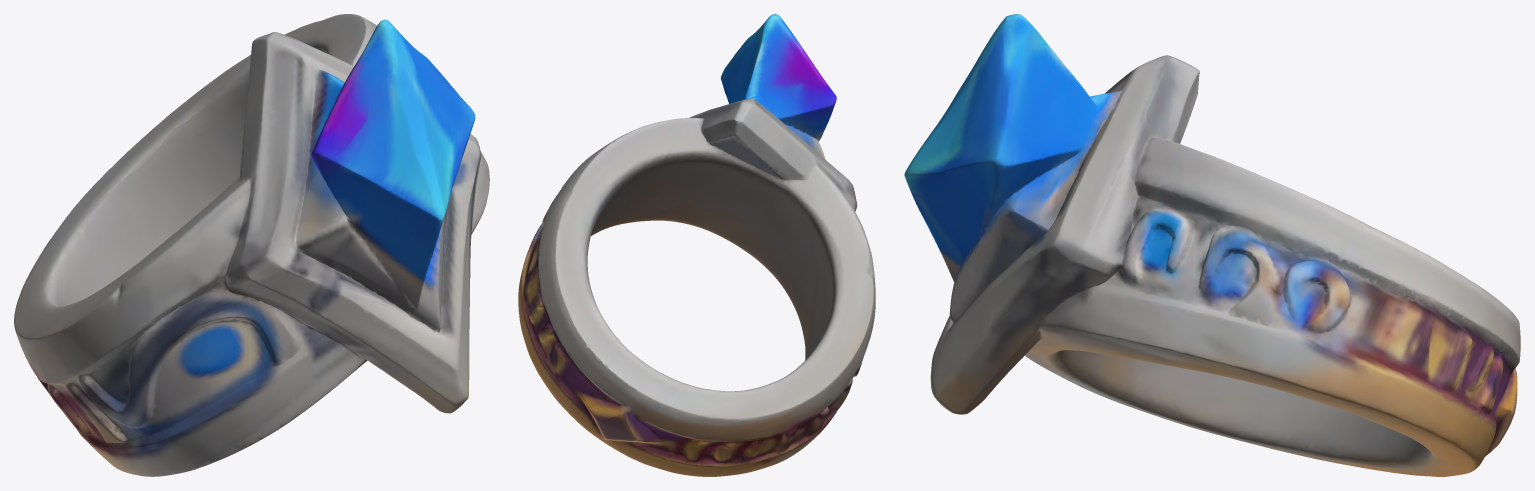
File: anel-2.glb
The picture shows the model from 3 angles, left to right: view 1: azimuth 30°, elevation 25°; view 2: azimuth 150°, elevation 25°; view 3: azimuth 270°, elevation 25°; orthographic projection. The views are drawn at different scales.
Visible parts, largest first — view 1: tripo_node_ebc4f105-10a8-4b16-a40b-d5813a3c5798.001; view 2: tripo_node_ebc4f105-10a8-4b16-a40b-d5813a3c5798.001; view 3: tripo_node_ebc4f105-10a8-4b16-a40b-d5813a3c5798.001.
Boxes of the visible parts, <box> form: tripo_node_ebc4f105-10a8-4b16-a40b-d5813a3c5798.001: <box>14,14,489,476</box>; tripo_node_ebc4f105-10a8-4b16-a40b-d5813a3c5798.001: <box>518,14,875,476</box>; tripo_node_ebc4f105-10a8-4b16-a40b-d5813a3c5798.001: <box>904,14,1520,476</box>.
Bounding box in the file's own units: 0.0934 × 0.105 × 0.1158.
Materials: 1 (1 with a texture image).
